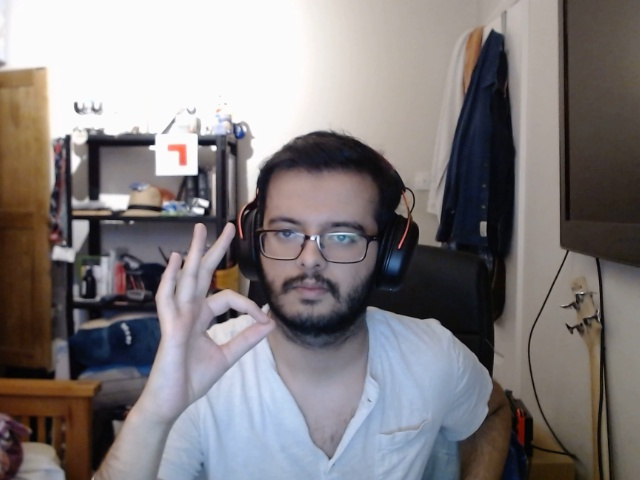Okay: (128, 216, 277, 427)
